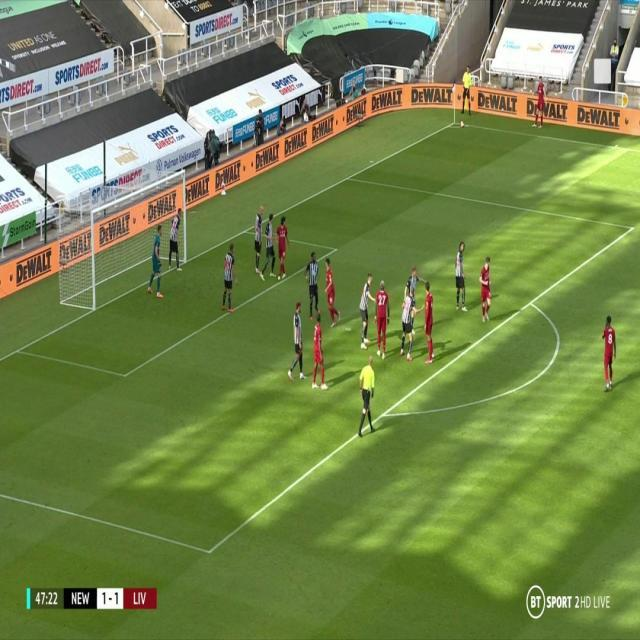ball: (460, 120, 465, 129)
goalkeeper: (146, 227, 165, 298)
player: (287, 300, 309, 383), (397, 285, 420, 363), (599, 314, 619, 395), (356, 269, 376, 350), (374, 278, 393, 362), (220, 242, 241, 314), (302, 250, 323, 320), (309, 316, 328, 390), (421, 283, 438, 364), (322, 257, 341, 329), (452, 241, 471, 313), (260, 209, 278, 282), (166, 205, 185, 273), (477, 254, 493, 326), (275, 215, 291, 281), (251, 204, 264, 276), (405, 260, 426, 298), (532, 76, 547, 127), (461, 63, 473, 119)
referee: (357, 355, 377, 441)
